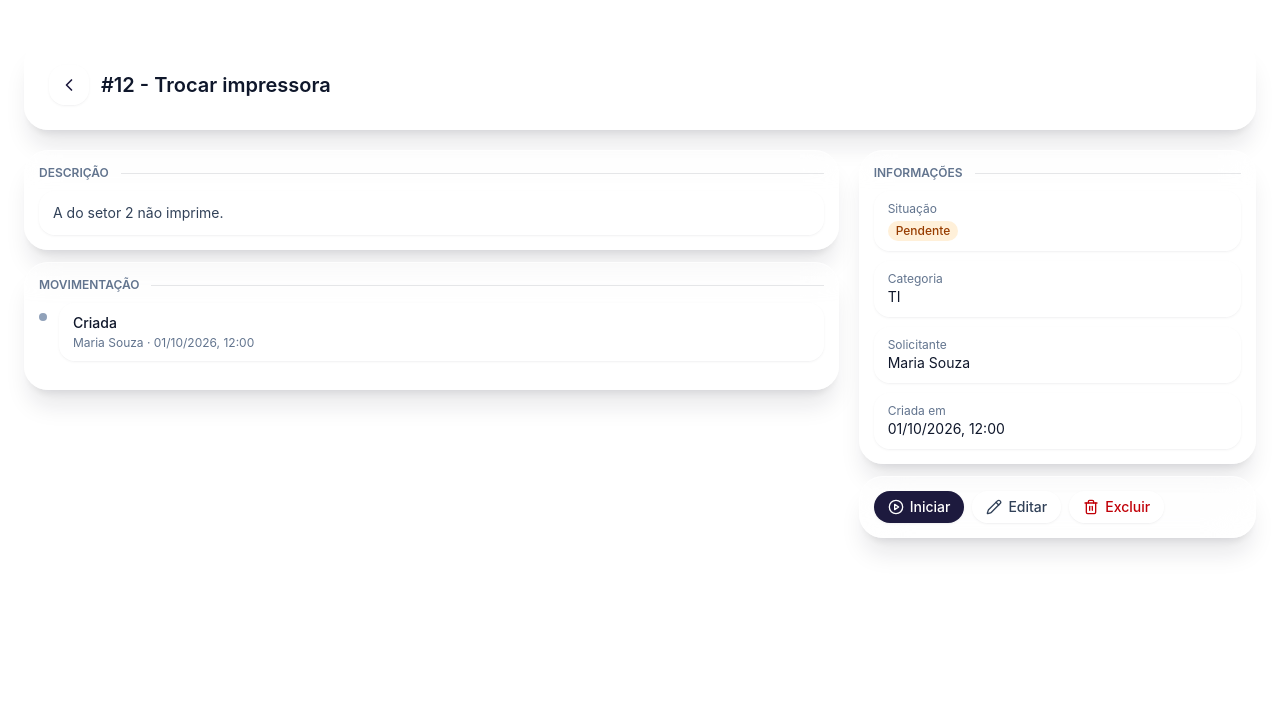
Test case: DemandDetailView › quando outra pessoa já mudou a situação, relê a solicitação e mantém o aviso
Click the button "Iniciar".
click(919, 507)  # box [874,491,964,523]
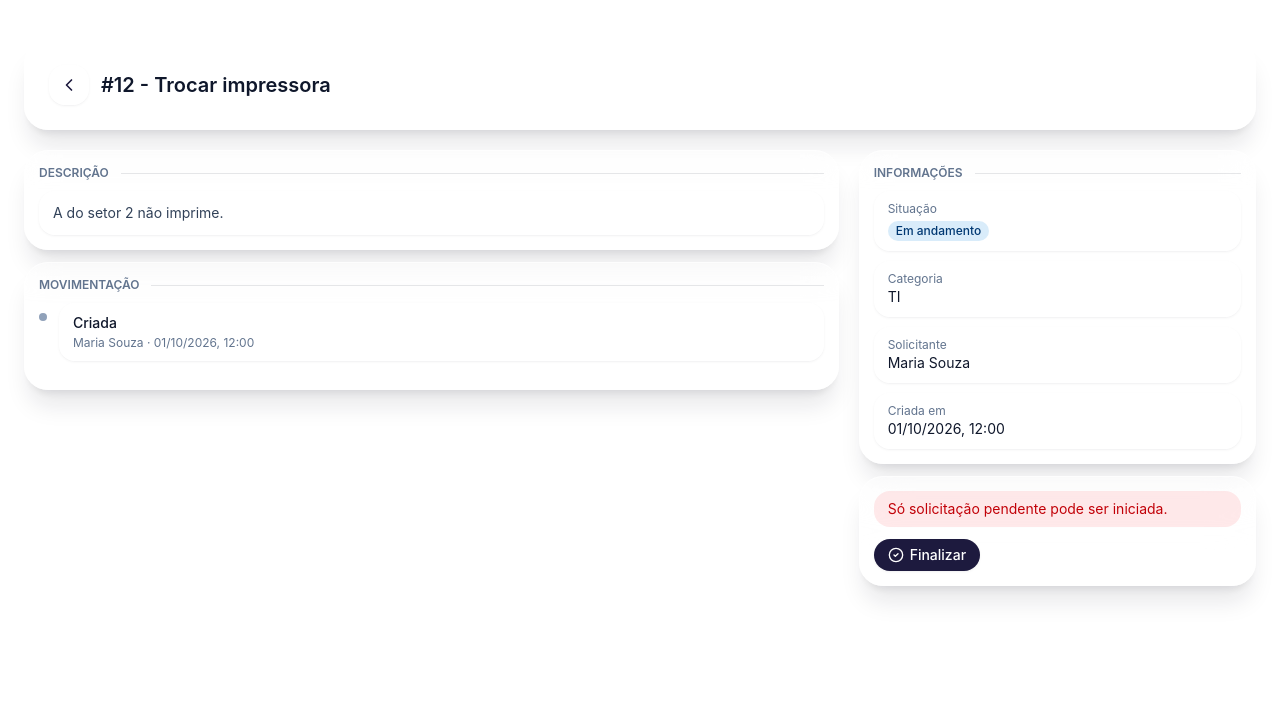
Check: the button "Finalizar" is shown, box [874,539,980,571]
Check: the element named "Ações da solicitação" shows "Só solicitação pendente pode ser iniciada.", box [888,500,1168,517]
